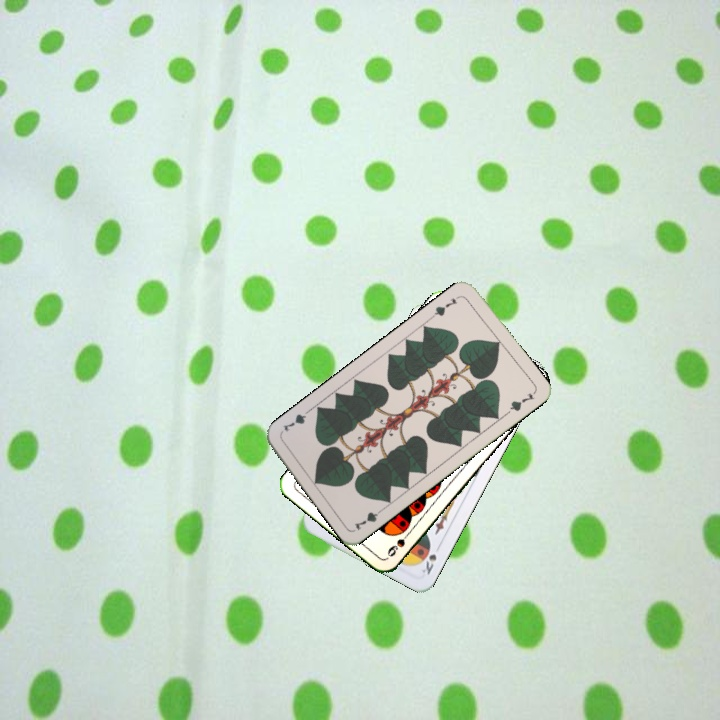G7: (350, 503, 387, 532), (427, 292, 463, 320)
S9: (383, 526, 415, 559)
SK: (418, 540, 444, 578)
